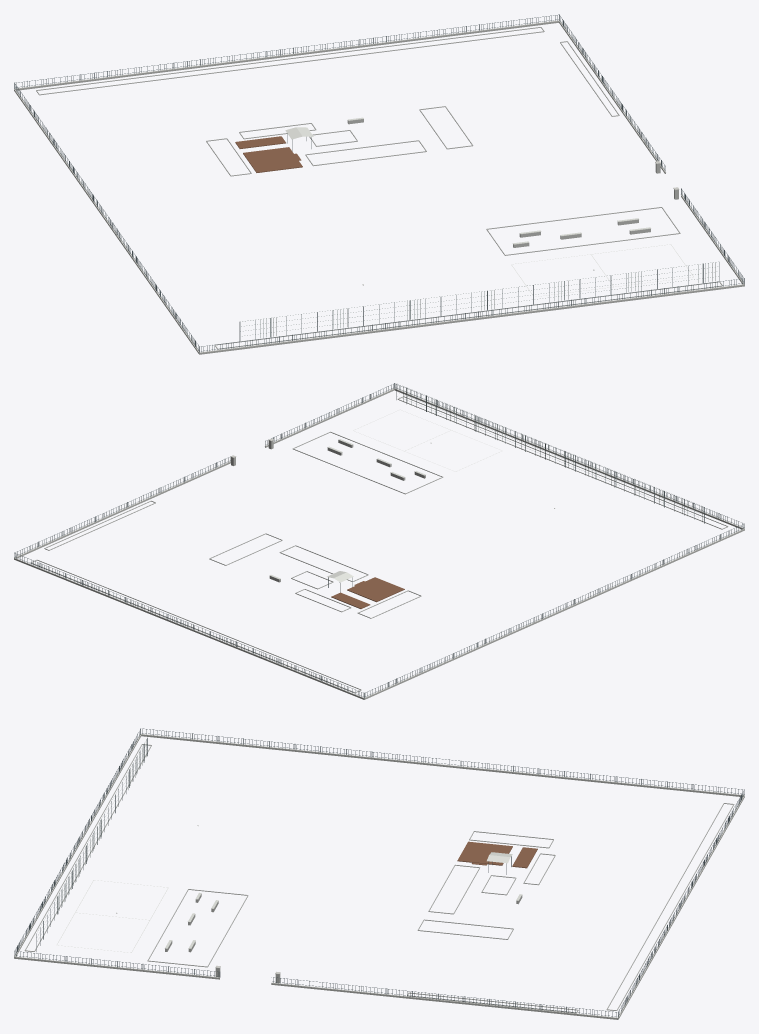
3 renders of one model, top to bottom at view 1: azimuth 30°, elevation 25°; view 2: azimuth 150°, elevation 25°; view 3: azimuth 270°, elevation 25°, orthographic. The views are drawn at different scales.
Visible parts, largest first — view 1: prop_boundary-fence, prop_flowerbeds, prop_south-ball-fence, prop_courtyard-deck, prop_benches; view 2: prop_boundary-fence, prop_flowerbeds, prop_south-ball-fence, prop_courtyard-deck; view 3: prop_boundary-fence, prop_flowerbeds, prop_courtyard-deck, prop_south-ball-fence.
Boxes of the visible parts, bbox=[...] form: prop_boundary-fence: bbox=[14, 14, 744, 354]; prop_flowerbeds: bbox=[36, 27, 722, 349]; prop_south-ball-fence: bbox=[239, 261, 719, 340]; prop_courtyard-deck: bbox=[235, 136, 302, 172]; prop_benches: bbox=[347, 117, 650, 247]; prop_boundary-fence: bbox=[14, 383, 744, 699]; prop_flowerbeds: bbox=[30, 396, 728, 692]; prop_south-ball-fence: bbox=[396, 384, 704, 523]; prop_courtyard-deck: bbox=[331, 577, 404, 608]; prop_boundary-fence: bbox=[14, 728, 744, 1019]; prop_flowerbeds: bbox=[24, 744, 734, 1013]; prop_courtyard-deck: bbox=[457, 841, 537, 868]; prop_south-ball-fence: bbox=[36, 737, 147, 951].
Size of the model in its own units: 131 by 4.01 by 143.
